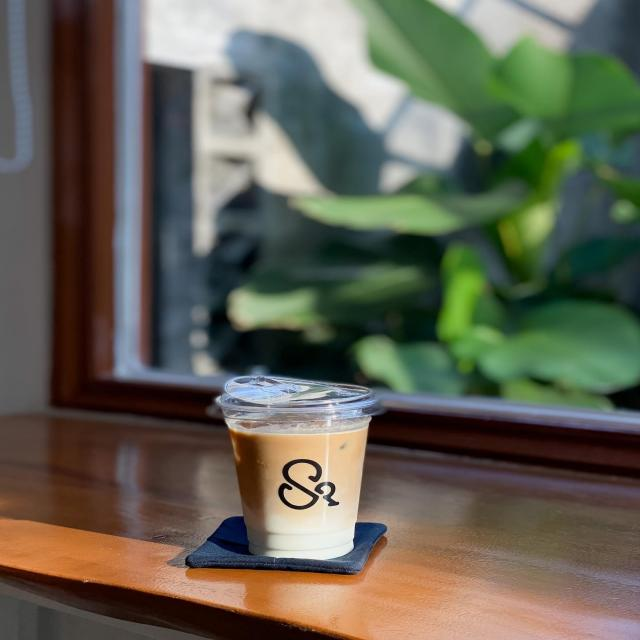cup-disposable: (214, 367, 386, 561)
